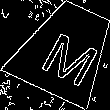M_NE: (31, 17, 100, 83)
